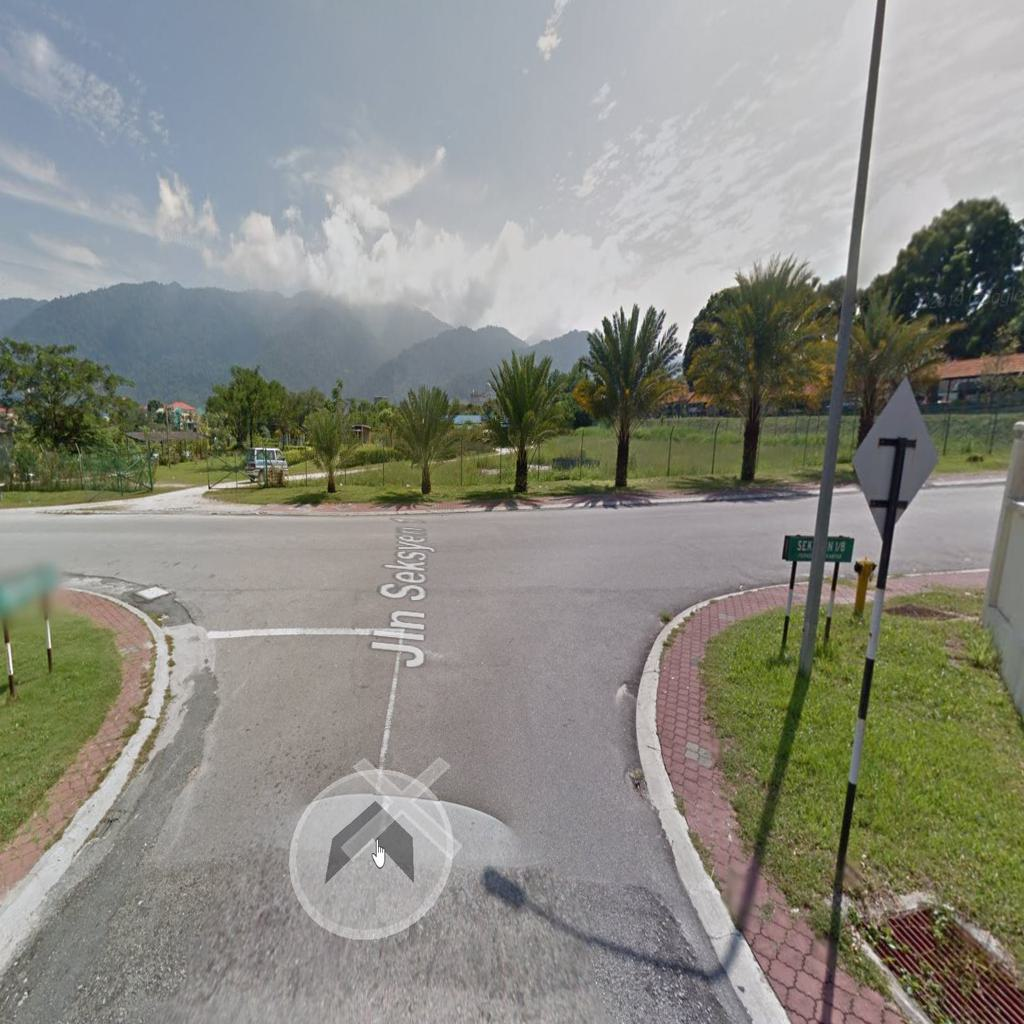Junction: (627, 473, 992, 692), (3, 483, 224, 673)
